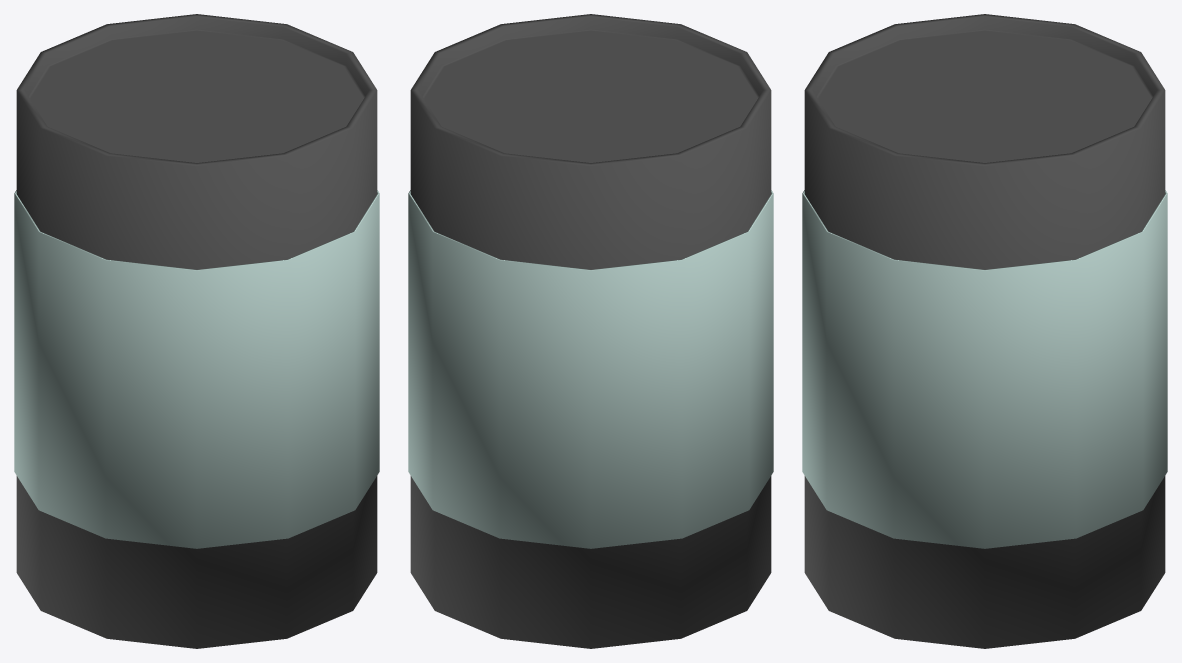
Rendered from cannedfood.fbx.
3 views of the same model, side by side, from view 1: azimuth 30°, elevation 25°; view 2: azimuth 150°, elevation 25°; view 3: azimuth 270°, elevation 25° (orthographic).
Visible parts, largest first — view 1: Circle, Circle.001; view 2: Circle, Circle.001; view 3: Circle, Circle.001.
Part boxes in pixels (bbox=[...]): Circle: bbox=[16, 14, 377, 648]; Circle.001: bbox=[14, 190, 379, 548]; Circle: bbox=[410, 14, 771, 648]; Circle.001: bbox=[408, 190, 773, 548]; Circle: bbox=[804, 14, 1165, 648]; Circle.001: bbox=[802, 190, 1167, 548].
Size of the model in its own units: 203 by 295 by 203.
